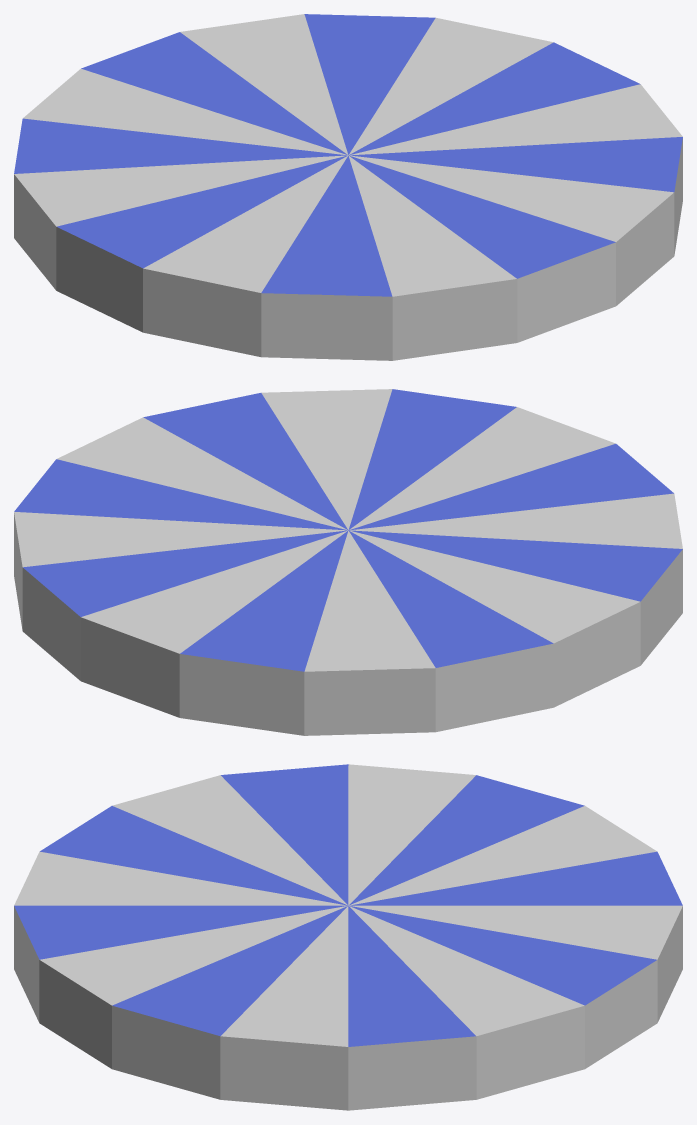
The model's file is circlePlatform.fbx.
The picture shows the model from 3 angles, top to bottom: view 1: azimuth 30°, elevation 25°; view 2: azimuth 150°, elevation 25°; view 3: azimuth 270°, elevation 25°; orthographic projection.
Parts seen in each view (by area): view 1: Circle; view 2: Circle; view 3: Circle.
Boxes of the visible parts, x1=… form: Circle: x1=14, y1=14, x2=682, y2=360; Circle: x1=14, y1=389, x2=682, y2=735; Circle: x1=14, y1=764, x2=682, y2=1110.
Bounding box in the file's own units: 1674 × 176 × 1674.
